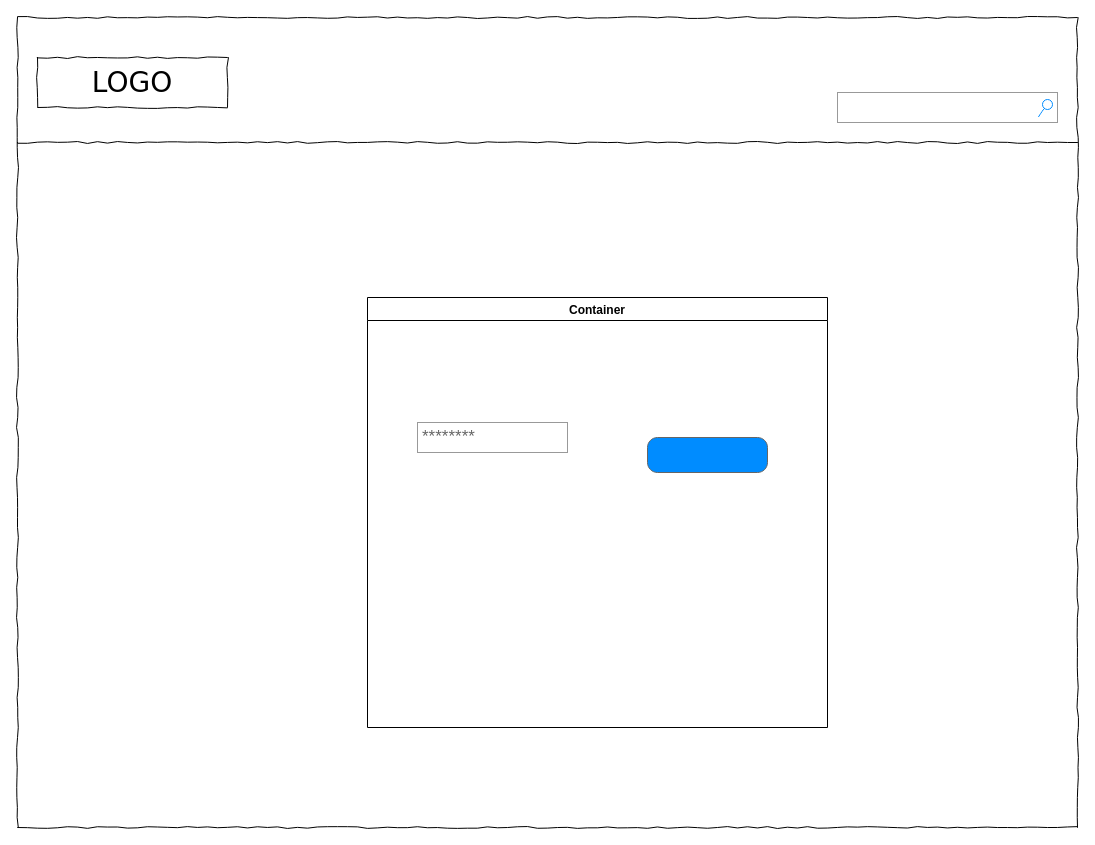
The diagram is 1095 pixels wide and 845 high, and some of its shapes have lost their labels. The centre of each missing label's shape, as x and y in pixels:
Button Text: [707,454]
Search: [947,107]
